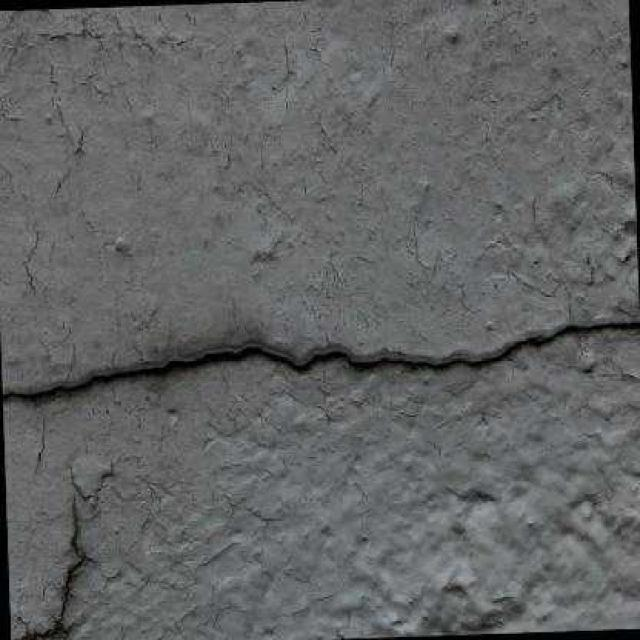D00: (2, 317, 640, 405)
